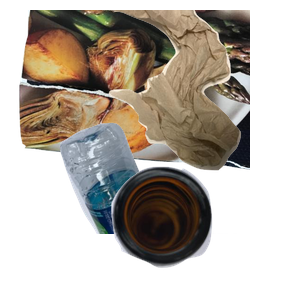glass: (109, 164, 300, 300)
paper: (16, 10, 256, 172)
plastic: (57, 120, 284, 300)
trash: (103, 10, 300, 173)
